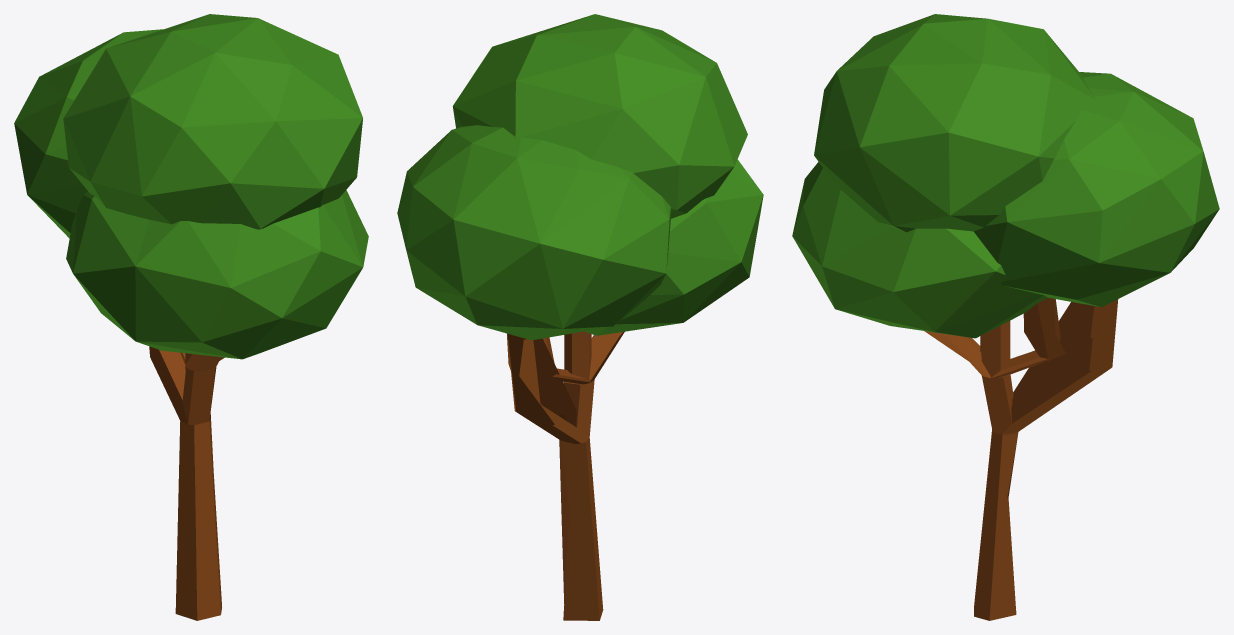
File: tree.fbx
3 renders of one model, left to right at view 1: azimuth 30°, elevation 25°; view 2: azimuth 150°, elevation 25°; view 3: azimuth 270°, elevation 25°, orthographic. The views are drawn at different scales.
Parts seen in each view (by area): view 1: Sphere, Cylinder; view 2: Sphere, Cylinder; view 3: Sphere, Cylinder.
Boxes of the visible parts, <box> form: Sphere: <box>14,14,368,359</box>; Cylinder: <box>149,346,224,620</box>; Sphere: <box>397,14,763,340</box>; Cylinder: <box>506,331,624,620</box>; Sphere: <box>792,14,1219,338</box>; Cylinder: <box>924,297,1118,620</box>.
Bounding box in the file's own units: 213 × 422 × 283.
